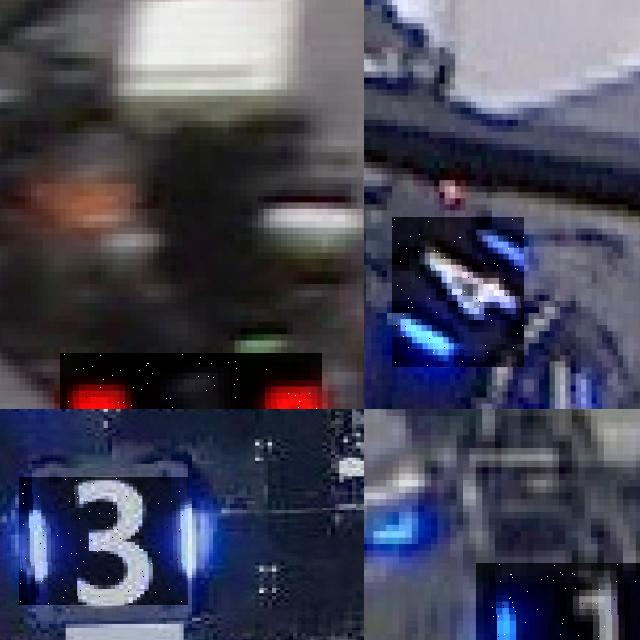B1: (476, 563, 640, 640)
B3: (19, 477, 188, 605)
B4: (392, 217, 524, 367), (518, 355, 596, 409)
R1: (60, 353, 322, 409)
